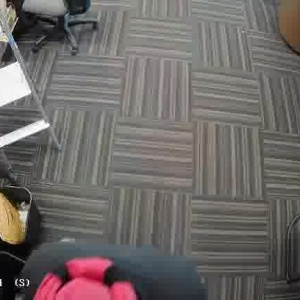person: (19, 246, 197, 300)
